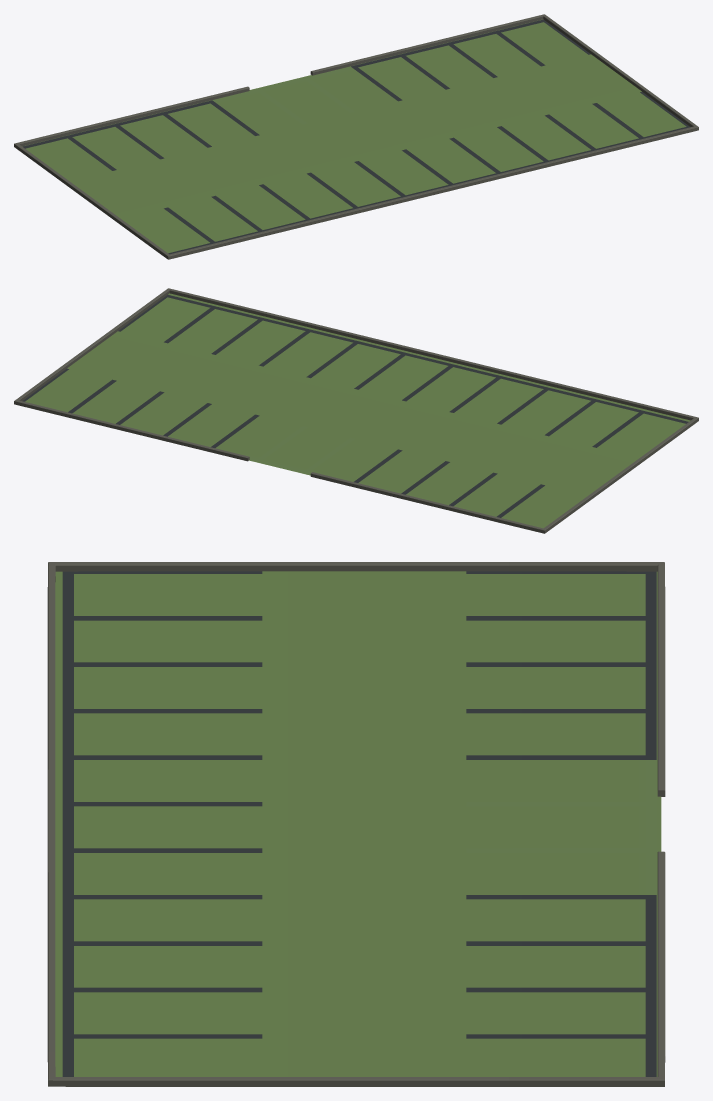
The model's file is ParkingBG_01.fbx.
3 views of the same model, one above another, from view 1: azimuth 30°, elevation 25°; view 2: azimuth 150°, elevation 25°; view 3: azimuth 270°, elevation 25° (orthographic). The views are drawn at different scales.
Visible parts, largest first — view 1: ParkingBG_01; view 2: ParkingBG_01; view 3: ParkingBG_01.
Part boxes in pixels (x1=…): ParkingBG_01: x1=14, y1=14, x2=698, y2=259; ParkingBG_01: x1=14, y1=288, x2=698, y2=533; ParkingBG_01: x1=47, y1=562, x2=665, y2=1086.
Size of the model in its own units: 24.15 by 0.15 by 12.16.
